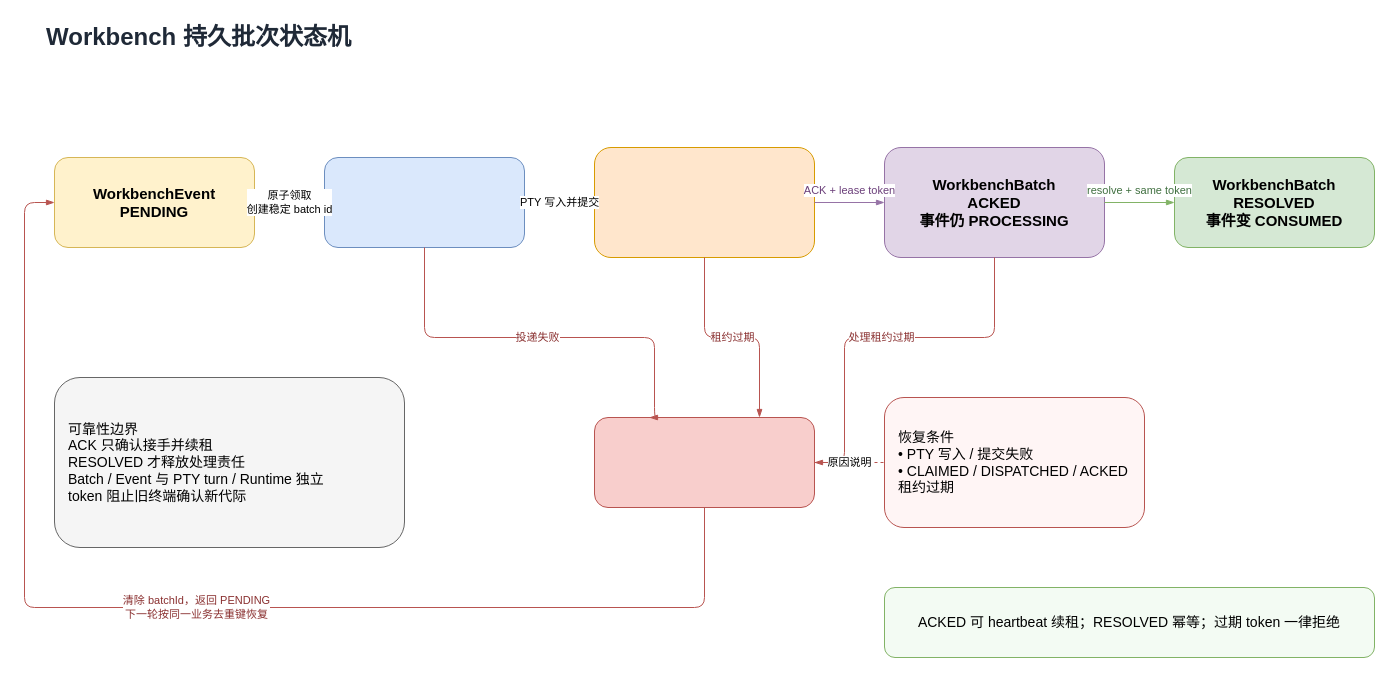
This 1392x675 diagram has some shape labels left out. Here are the shapes that lost their labels. From the top down, the centre of each, then its label:
the point at 424,202: WorkbenchBatch CLAIMED
the point at 704,202: WorkbenchBatch DISPATCHED 事件仍 PROCESSING
the point at 704,462: WorkbenchBatch FAILED
